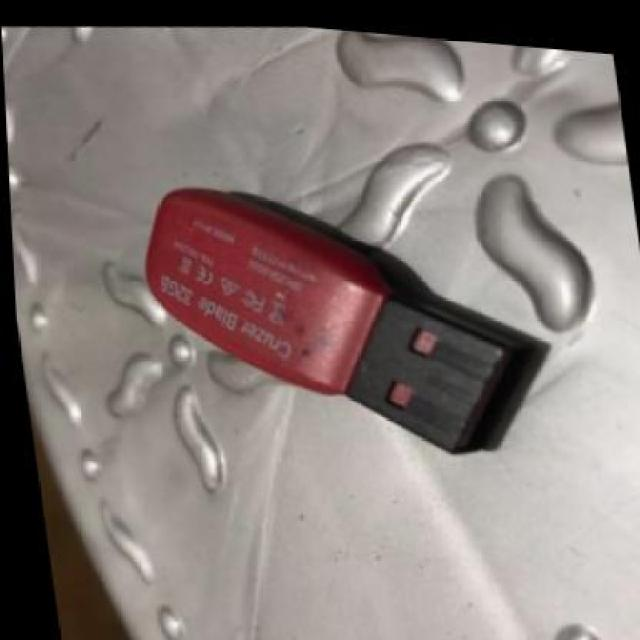Flashdisk: (101, 135, 564, 499)
